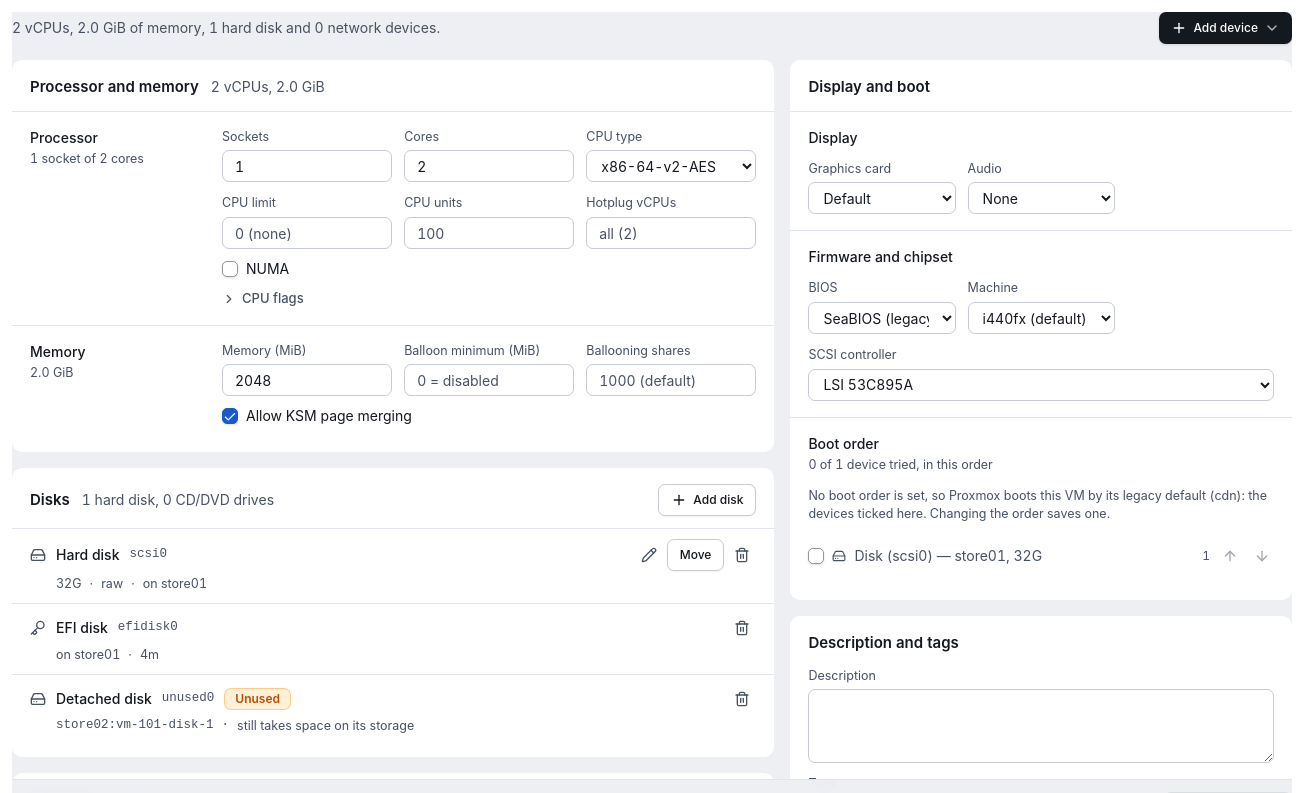
Scenario: HardwarePanel add disk › shows a thick LVM store's format as the store's own
The image size is (1304, 793).
Expected: the text "unused0" is shown, [162,690,214,708]
Click the button "Add disk" at (707, 500), box [658,484,756,516]
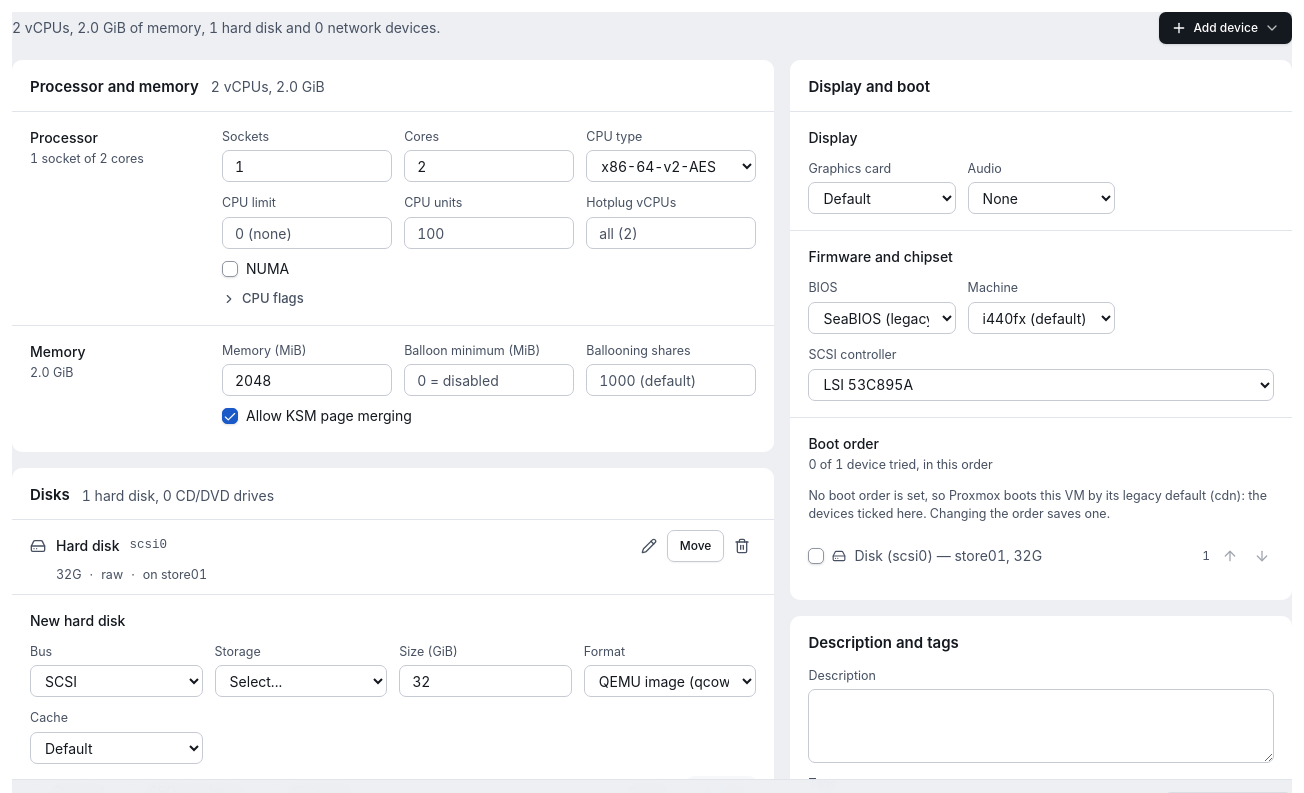
Result: the dropdown showing "Select..." is enabled
Select "store03 (lvm)" in the dropdown showing "Select..." at (301, 681), box [215,665,387,697]
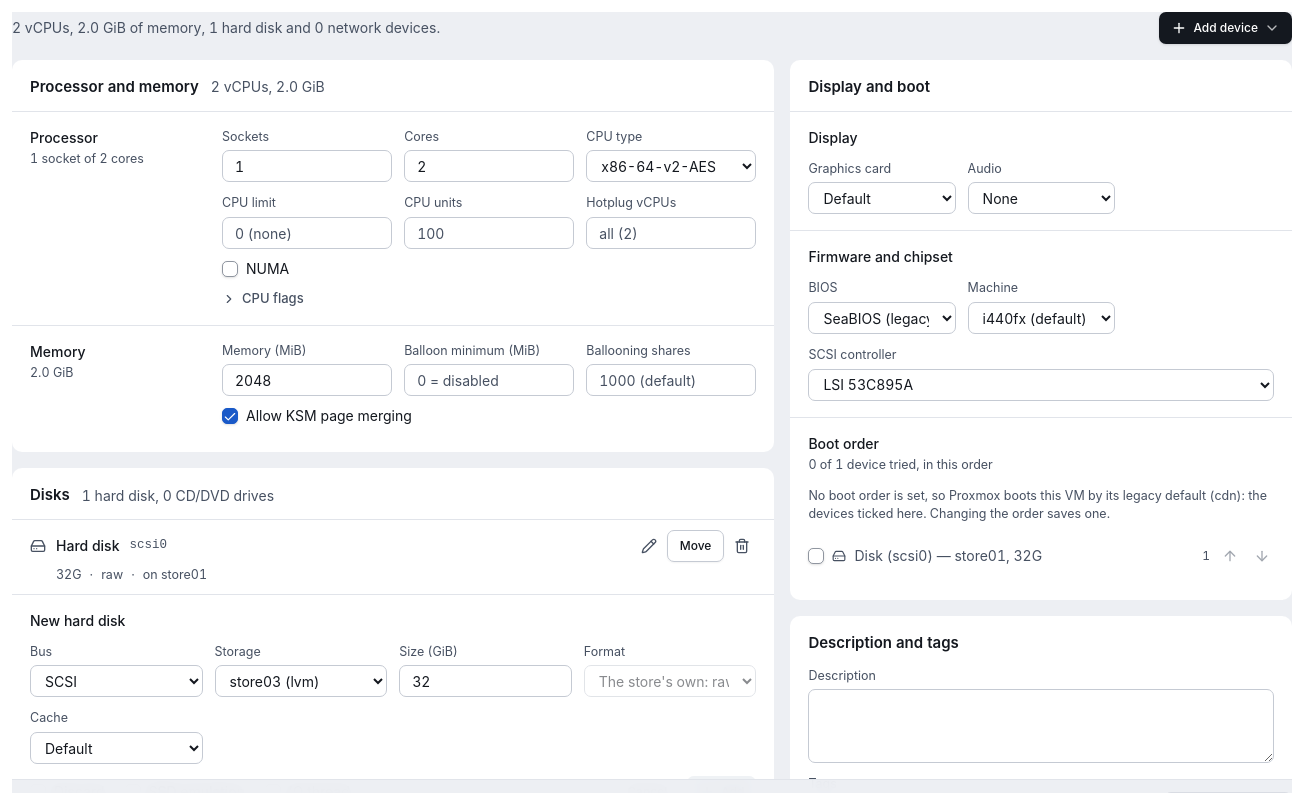
Result: the dropdown showing "The store's own" is disabled at [584,665,756,697]
